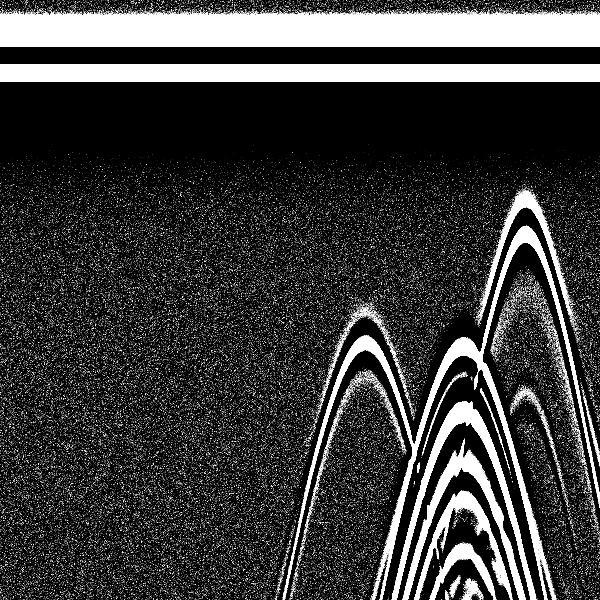pipe: (414, 9, 513, 422), (318, 7, 413, 403), (485, 6, 569, 288)
